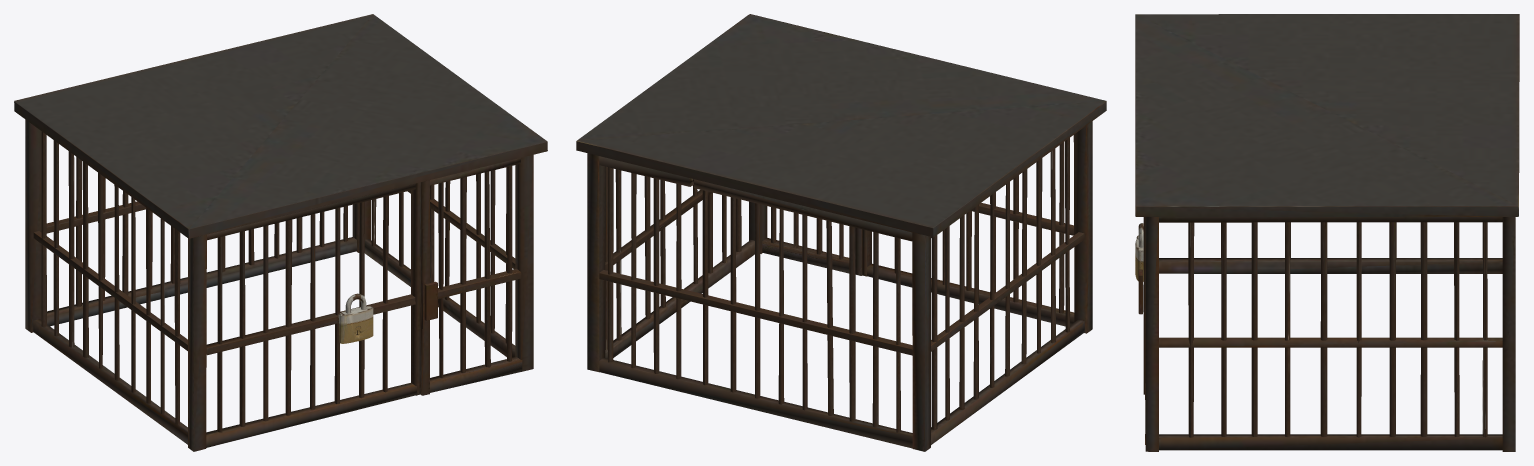
Rendered from cage.glb.
3 views of the same model, side by side, from view 1: azimuth 30°, elevation 25°; view 2: azimuth 150°, elevation 25°; view 3: azimuth 270°, elevation 25° (orthographic). The views are drawn at different scales.
Size of the model in its own units: 0.9502 by 0.5781 by 0.8018.
1 material, 1 textured.
